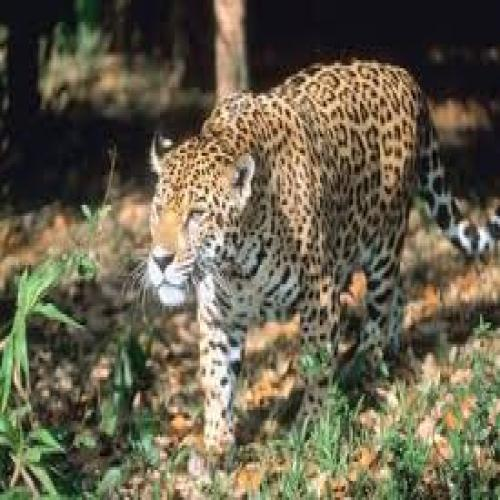jaguar_not-endangered: (147, 67, 489, 473)
